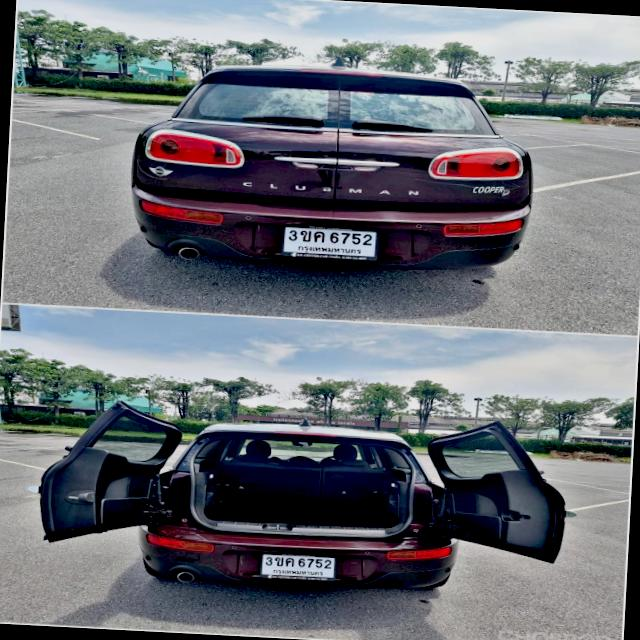license_plate: (279, 222, 379, 264), (260, 551, 340, 584)
